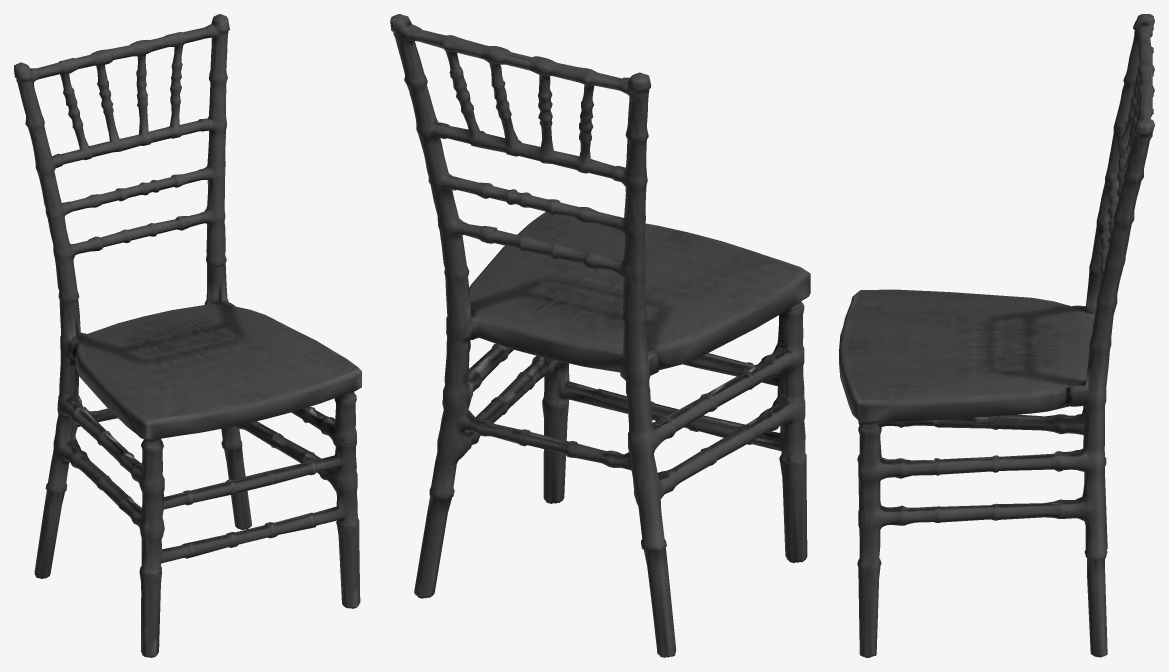
Rendered from Chair_Chiavari_Black_0320032134_texture.glb.
The picture shows the model from 3 angles, left to right: view 1: azimuth 30°, elevation 25°; view 2: azimuth 150°, elevation 25°; view 3: azimuth 270°, elevation 25°; orthographic projection. The views are drawn at different scales.
Visible parts, largest first — view 1: Mesh_0.005; view 2: Mesh_0.005; view 3: Mesh_0.005.
Part boxes in pixels (box(x1,y1,x2,y2)): Mesh_0.005: box(14, 14, 361, 657); Mesh_0.005: box(390, 14, 810, 657); Mesh_0.005: box(839, 14, 1154, 657).
Size of the model in its own units: 0.4225 by 0.9144 by 0.4882.
1 material, 1 textured.
